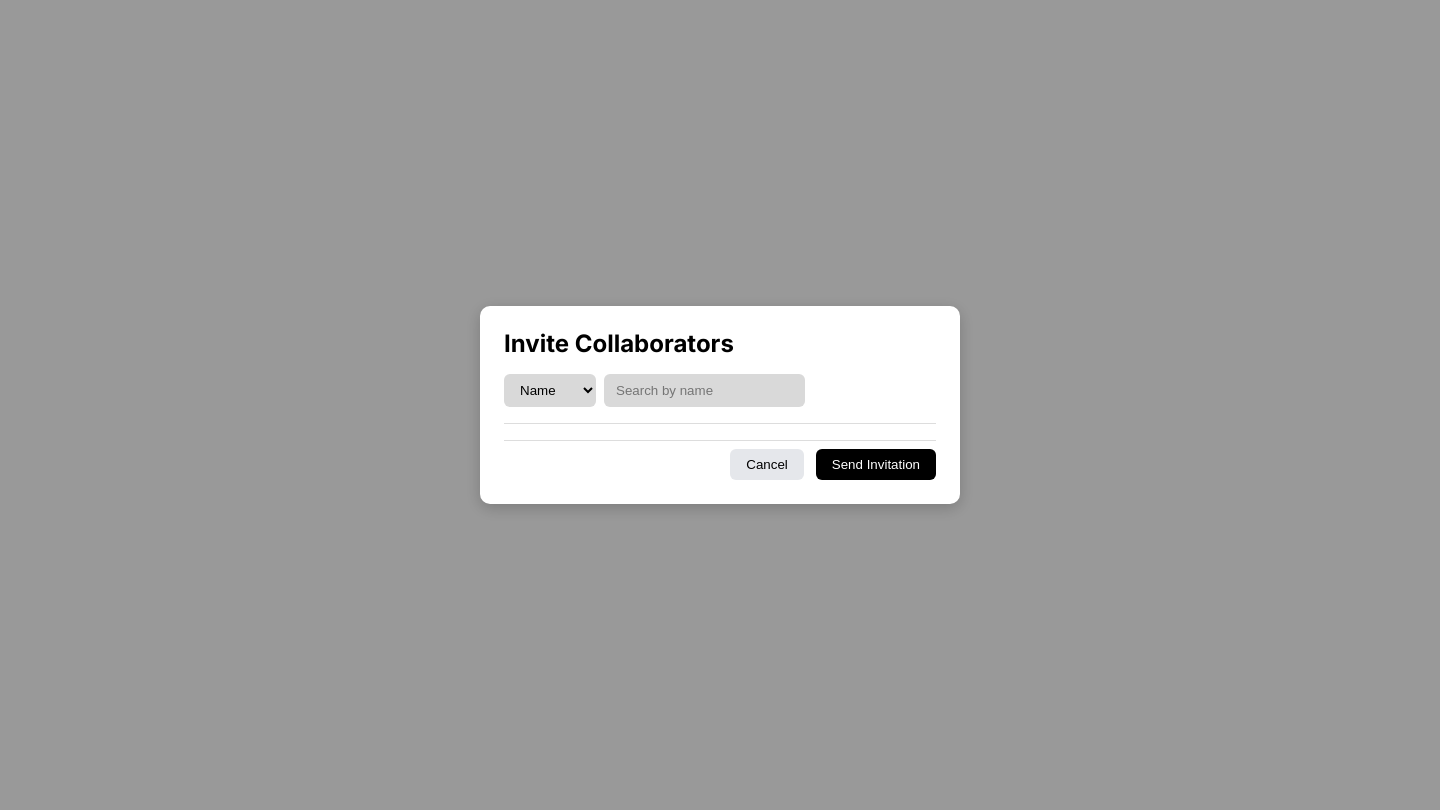
Test: InviteCollaborators › handles invitation sending errors
The image size is (1440, 810).
Type "John" into the field with placeholder "Search by name" at (704, 391), box [604,374,805,407]
Wait 300 ms
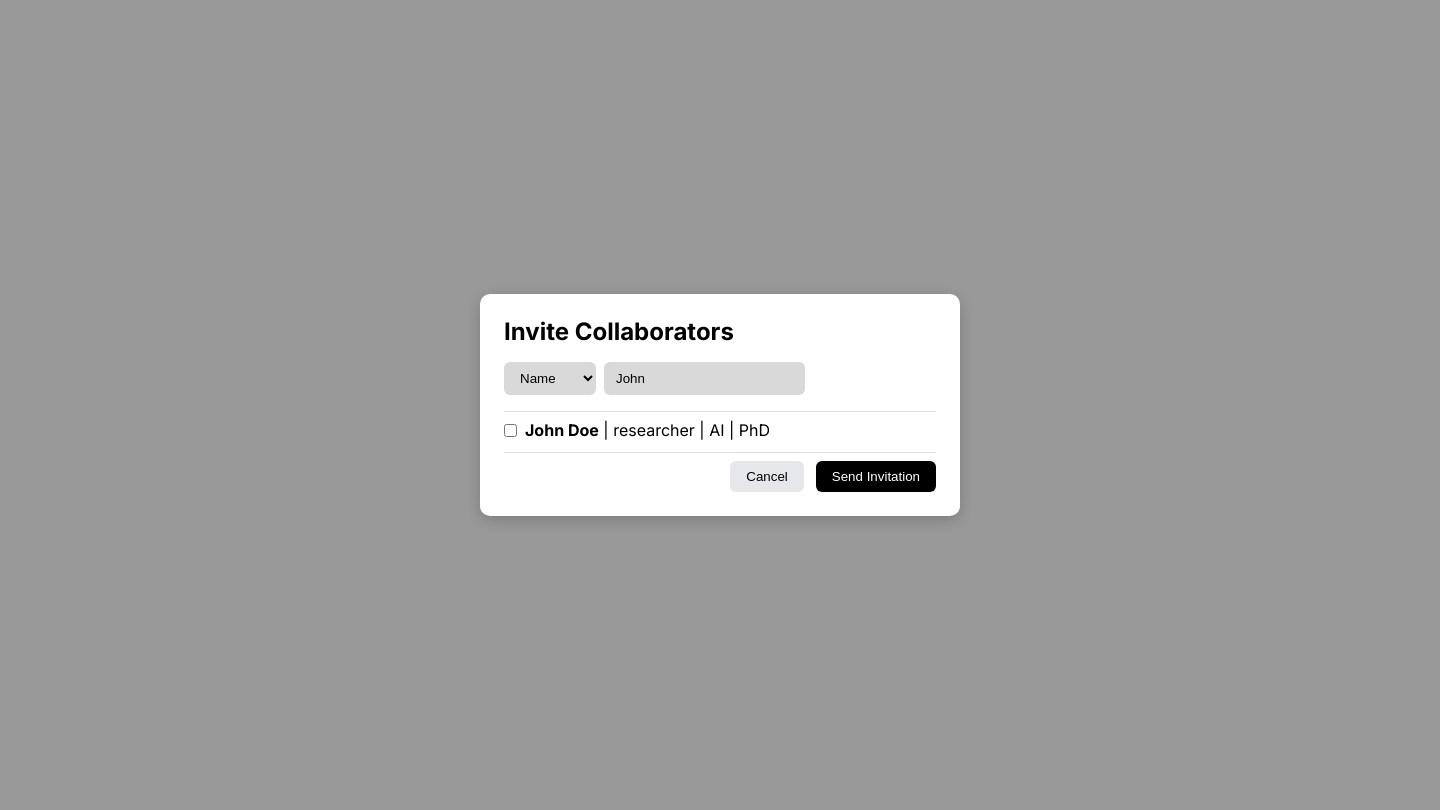
Click the checkbox at (510, 430), box [504,424,517,437]
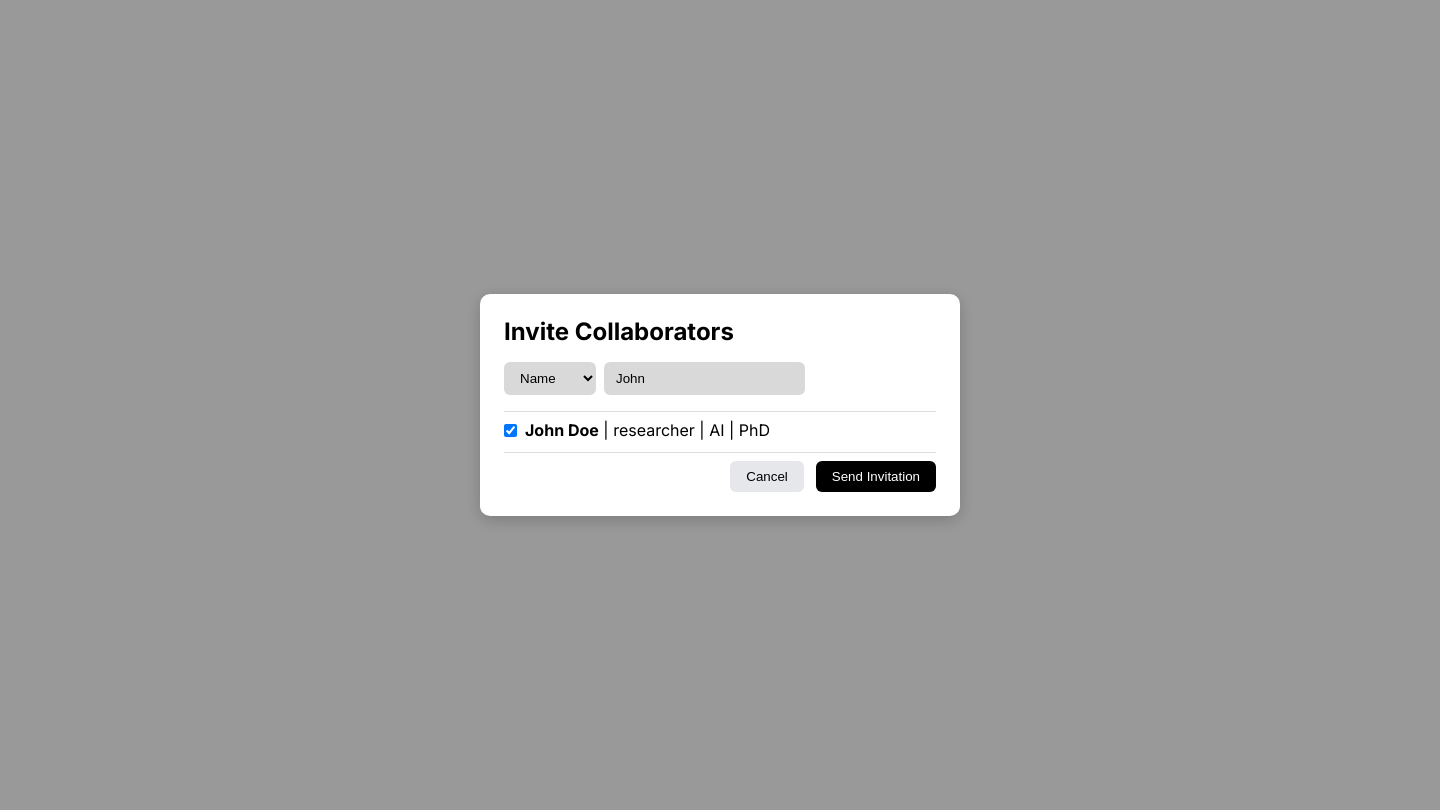
Click the button "Send Invitation" at (876, 477), box [816,461,936,492]
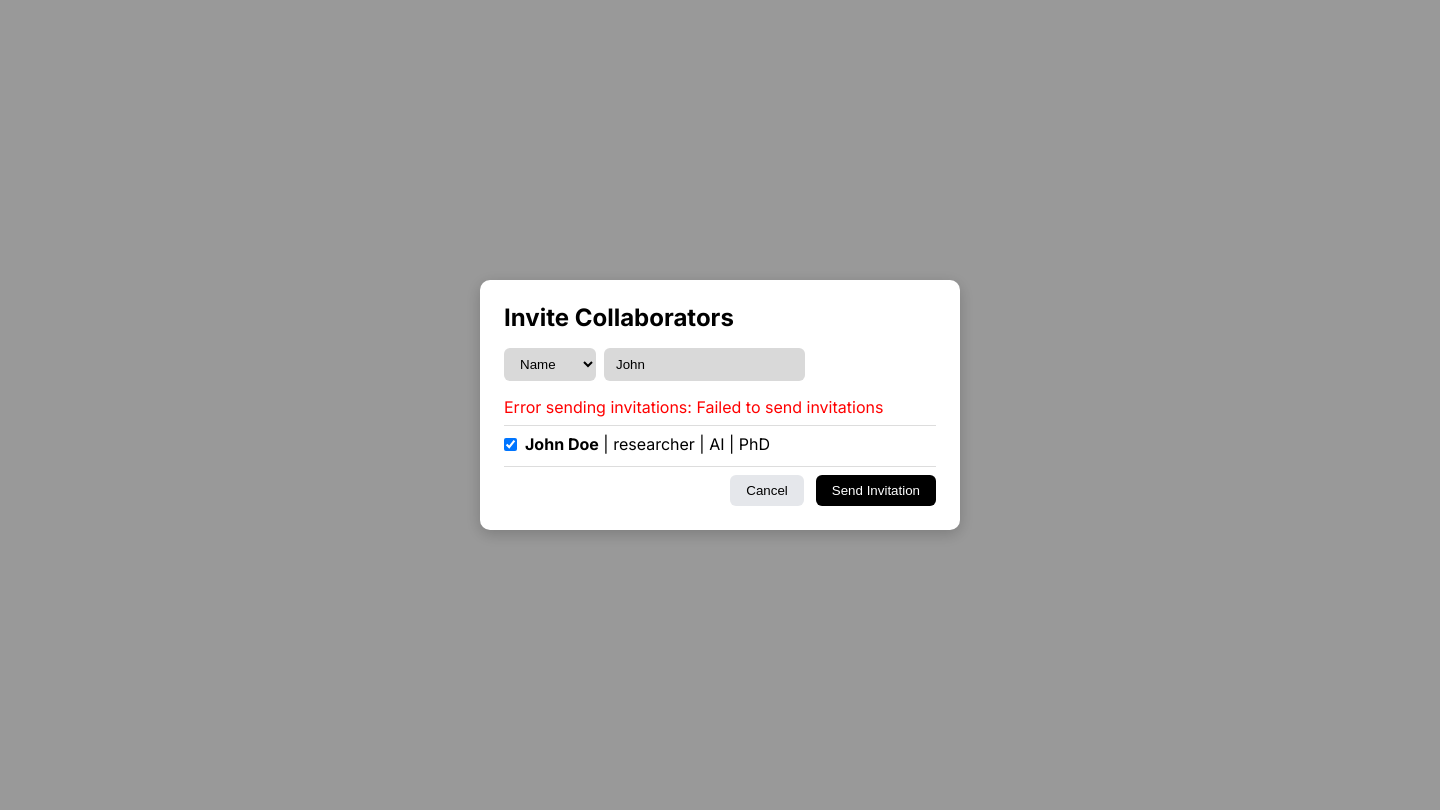
Expected: the text "Error sending invitations: Failed to send invitations" is shown, [504,397,936,417]
